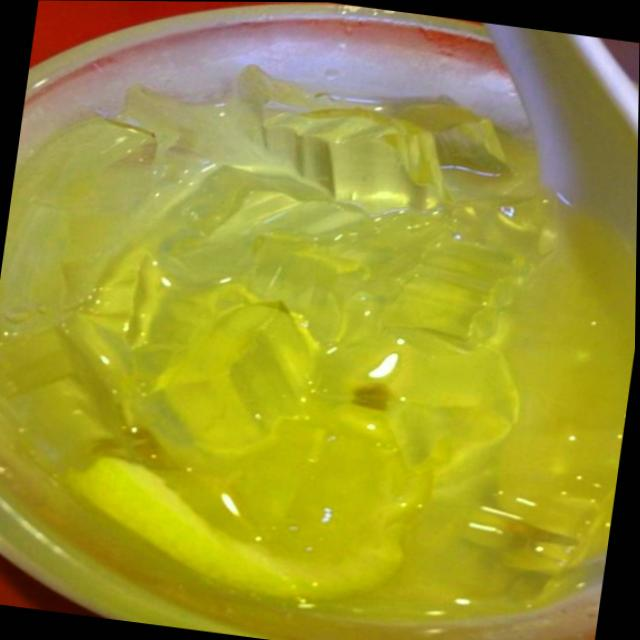蛋糕甜品: (0, 5, 640, 640)
